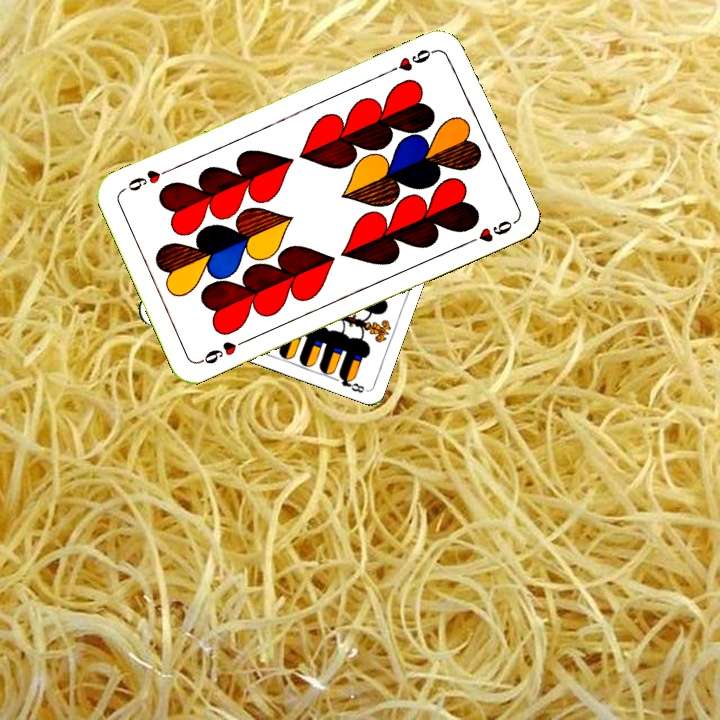H9: (195, 335, 251, 367), (384, 45, 440, 76)
